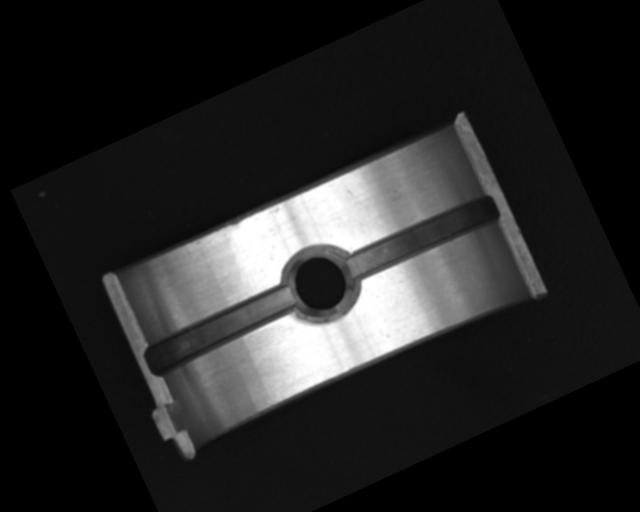gap: (337, 188, 504, 290), (139, 279, 301, 378)
hole: (273, 234, 369, 332)
